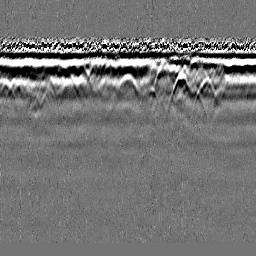cavity: (117, 73, 139, 99)
